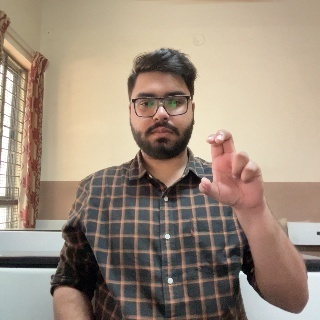Face: (129, 71, 193, 158)
No: (202, 130, 270, 242)
